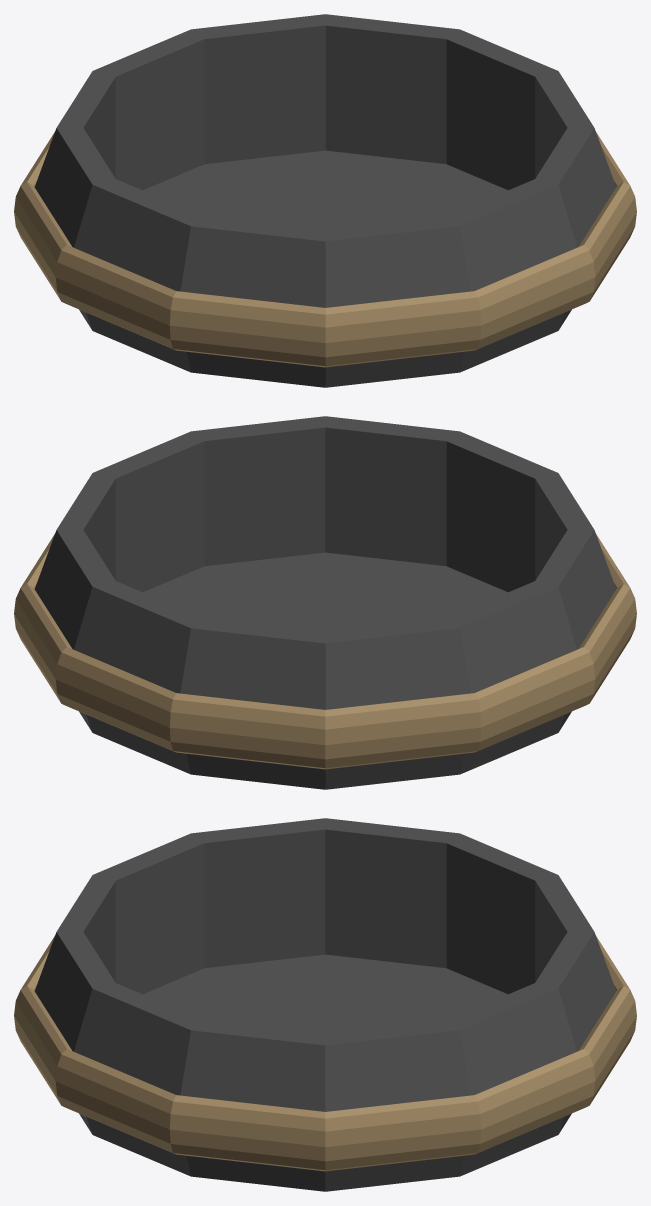
The model's file is Shaving Soap Holder.fbx.
The picture shows the model from 3 angles, top to bottom: view 1: azimuth 30°, elevation 25°; view 2: azimuth 150°, elevation 25°; view 3: azimuth 270°, elevation 25°; orthographic projection.
Visible parts, largest first — view 1: Shaving Soap Holder; view 2: Shaving Soap Holder; view 3: Shaving Soap Holder.
Part boxes in pixels (x1,y1,x2,y2): Shaving Soap Holder: [14, 14, 636, 387]; Shaving Soap Holder: [14, 416, 636, 789]; Shaving Soap Holder: [14, 818, 636, 1191].
Size of the model in its own units: 90.32 by 23.4 by 90.32.
